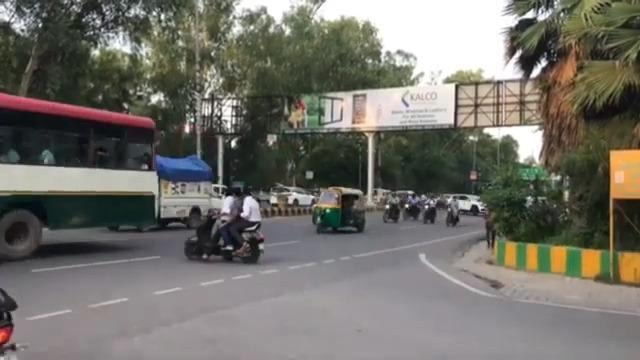Auto: (311, 185, 366, 233)
Bike: (382, 192, 401, 223)
Bus: (0, 87, 160, 260)
